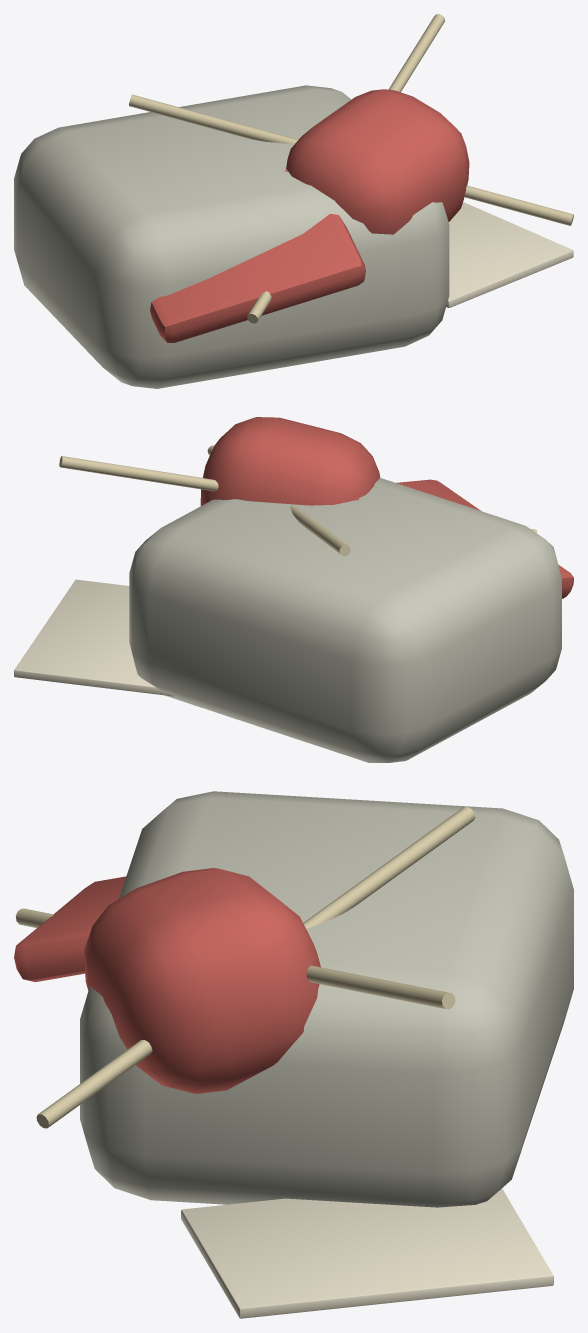
The model's file is CTCC_PROP_KnittingBagC02.fbx.
The picture shows the model from 3 angles, top to bottom: view 1: azimuth 30°, elevation 25°; view 2: azimuth 150°, elevation 25°; view 3: azimuth 270°, elevation 25°; orthographic projection. The views are drawn at different scales.
Parts seen in each view (by area): view 1: CTCC_PROP_KnittingBagC02; view 2: CTCC_PROP_KnittingBagC02; view 3: CTCC_PROP_KnittingBagC02.
Part boxes in pixels (x1=…): CTCC_PROP_KnittingBagC02: x1=14, y1=14, x2=573, y2=388; CTCC_PROP_KnittingBagC02: x1=14, y1=417, x2=573, y2=762; CTCC_PROP_KnittingBagC02: x1=14, y1=791, x2=573, y2=1318.
Bounding box in the file's own units: 0.3861 × 0.1675 × 0.2759.
